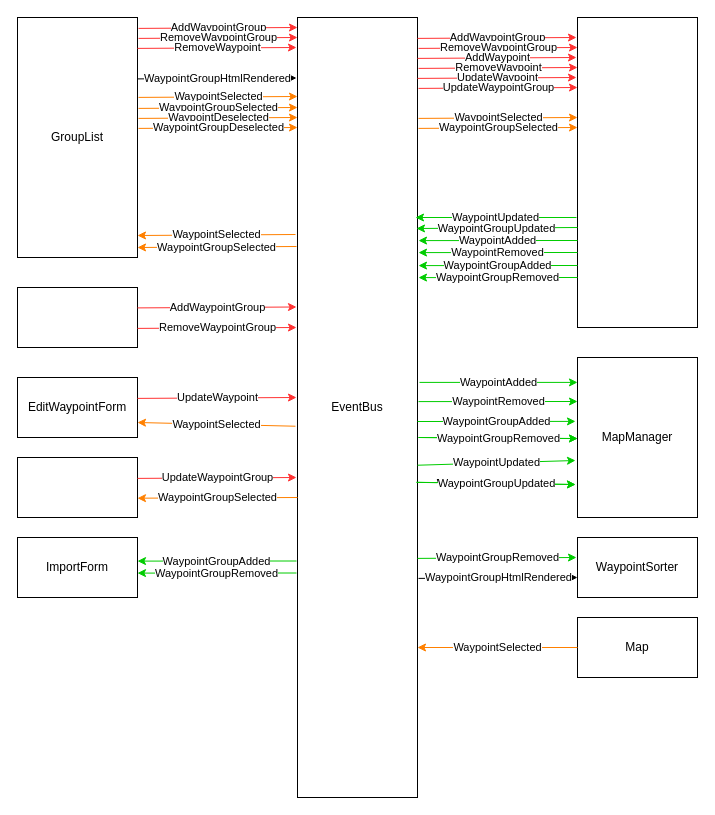
The diagram is 715 pixels wide and 815 high, and some of its shapes have lost their labels. The box of each missing label's shape, as (x1, y1, x2, y2) in pixels:
Controls: (16, 286, 138, 348)
EditWaypointGroup Form: (16, 456, 138, 518)
ModelManager: (576, 16, 698, 328)
